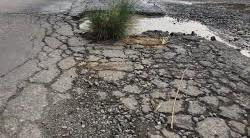alligator-crack: (36, 13, 250, 138)
pothole: (73, 6, 210, 39)
